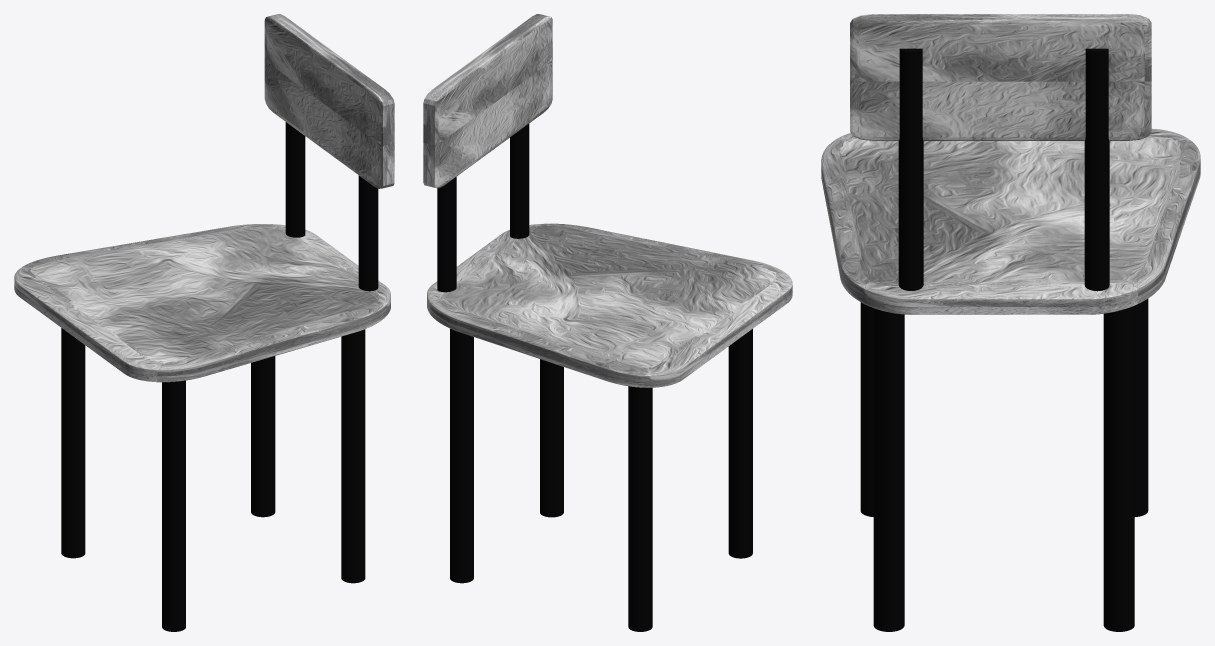
Rendered from chair.glb.
The picture shows the model from 3 angles, left to right: view 1: azimuth 30°, elevation 25°; view 2: azimuth 150°, elevation 25°; view 3: azimuth 270°, elevation 25°; orthographic projection. The views are drawn at different scales.
Parts seen in each view (by area): view 1: Cube.001, Cube, Cylindre.003, Cylindre.004, Cylindre.005, Cylindre.006, Cylindre.002, Cylindre.001; view 2: Cube.001, Cube, Cylindre.005, Cylindre.006, Cylindre.004, Cylindre.003, Cylindre.001, Cylindre.002; view 3: Cube.001, Cube, Cylindre.006, Cylindre.003, Cylindre.001, Cylindre.002, Cylindre.005, Cylindre.004.
Boxes of the visible parts, x1=… form: Cube.001: x1=14, y1=224, x2=390, y2=382; Cube: x1=264, y1=14, x2=394, y2=188; Cylindre.003: x1=341, y1=329, x2=365, y2=583; Cylindre.004: x1=162, y1=380, x2=185, y2=631; Cylindre.005: x1=61, y1=328, x2=85, y2=558; Cylindre.006: x1=251, y1=356, x2=275, y2=517; Cylindre.002: x1=358, y1=175, x2=378, y2=291; Cylindre.001: x1=285, y1=122, x2=305, y2=237; Cube.001: x1=427, y1=223, x2=792, y2=387; Cube: x1=423, y1=14, x2=552, y2=188; Cylindre.005: x1=628, y1=386, x2=652, y2=631; Cylindre.006: x1=450, y1=328, x2=473, y2=583; Cylindre.004: x1=728, y1=329, x2=752, y2=558; Cylindre.003: x1=540, y1=359, x2=563, y2=517; Cylindre.001: x1=437, y1=106, x2=456, y2=292; Cylindre.002: x1=510, y1=123, x2=529, y2=238; Cube.001: x1=821, y1=128, x2=1200, y2=314; Cube: x1=850, y1=14, x2=1151, y2=140; Cylindre.006: x1=1103, y1=306, x2=1134, y2=631; Cylindre.003: x1=873, y1=308, x2=904, y2=631; Cylindre.001: x1=1084, y1=48, x2=1109, y2=291; Cylindre.002: x1=898, y1=48, x2=923, y2=290; Cylindre.005: x1=1134, y1=299, x2=1148, y2=516; Cylindre.004: x1=860, y1=302, x2=873, y2=516.
Bounding box in the file's own units: 1.43 × 2.42 × 1.34.
2 materials, 1 textured.
